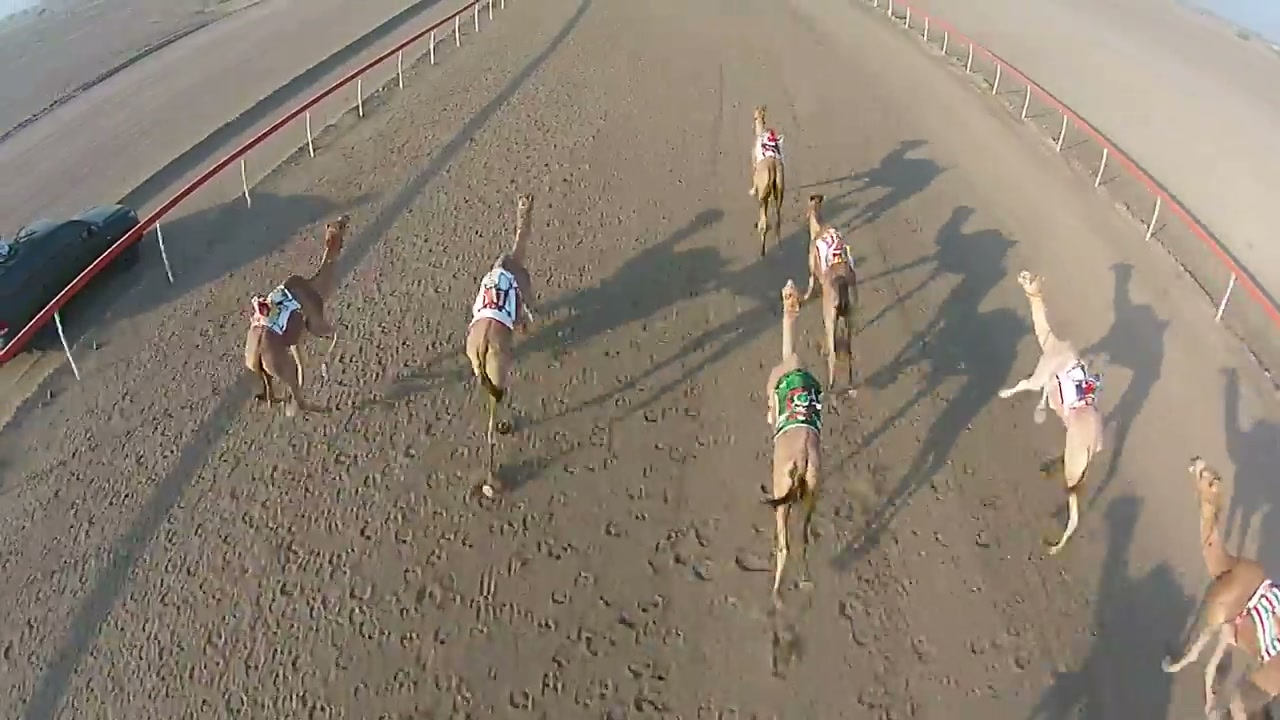animal_footprint: (58, 362, 720, 719), (779, 424, 1068, 719)
